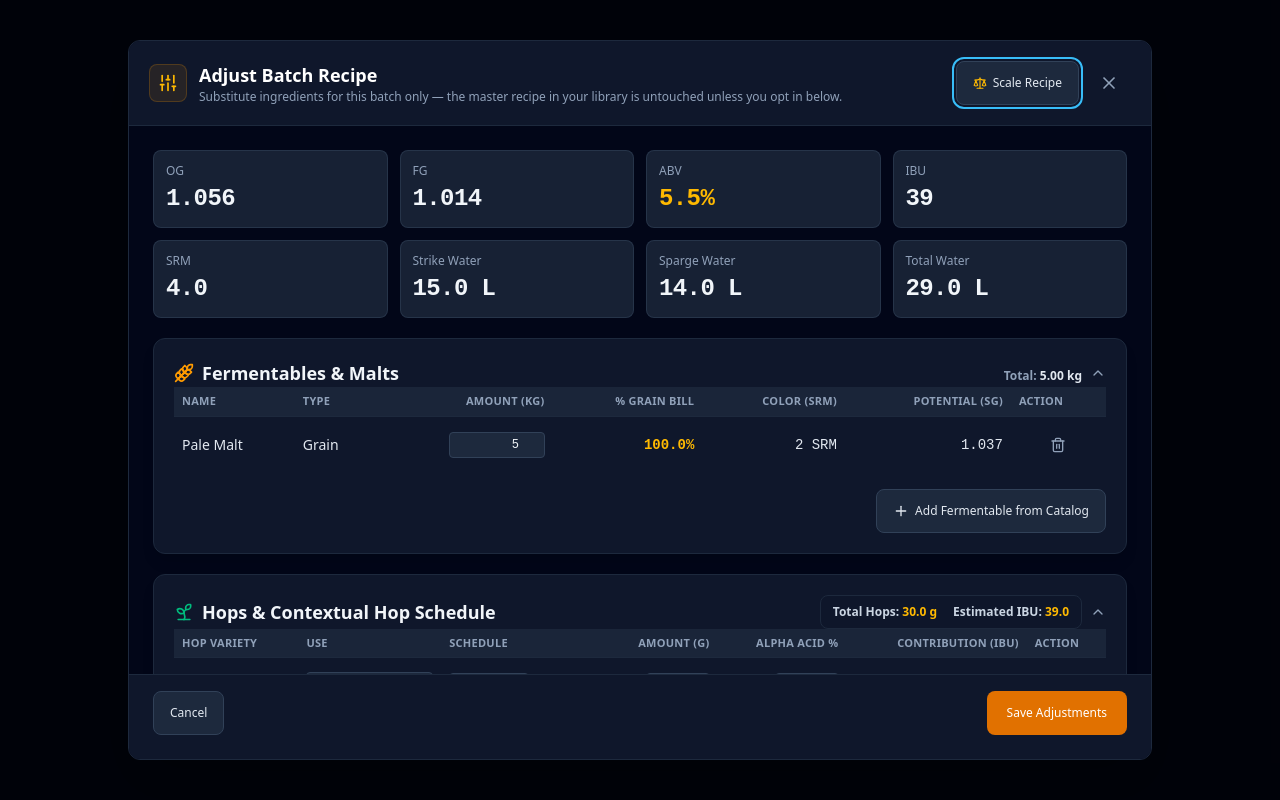
Test: Scale Recipe in BatchRecipeAdjustModal › scales fermentable and hop amounts proportionally when applying scale
Expected: the number field named "Pale Malt amount (kg)" holds "5", top-left (449, 432), bottom-right (545, 458)
Click the button with test id "batch-recipe-scale-btn" at (1017, 83), box top-left (956, 61), bottom-right (1079, 105)
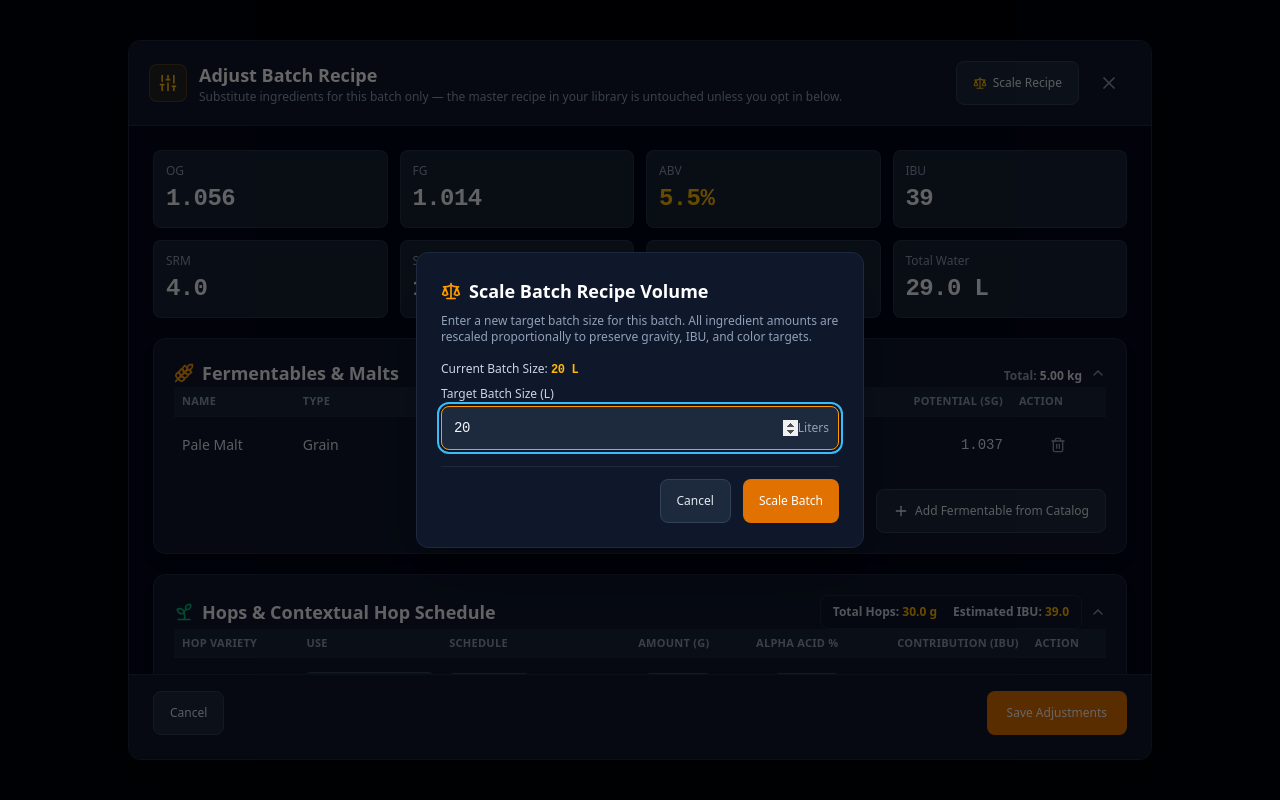
Note: Scale from 20L to 40L
Replace the text in the number field named "Target batch size in liters" with "40" at (640, 428), box top-left (441, 406), bottom-right (839, 450)
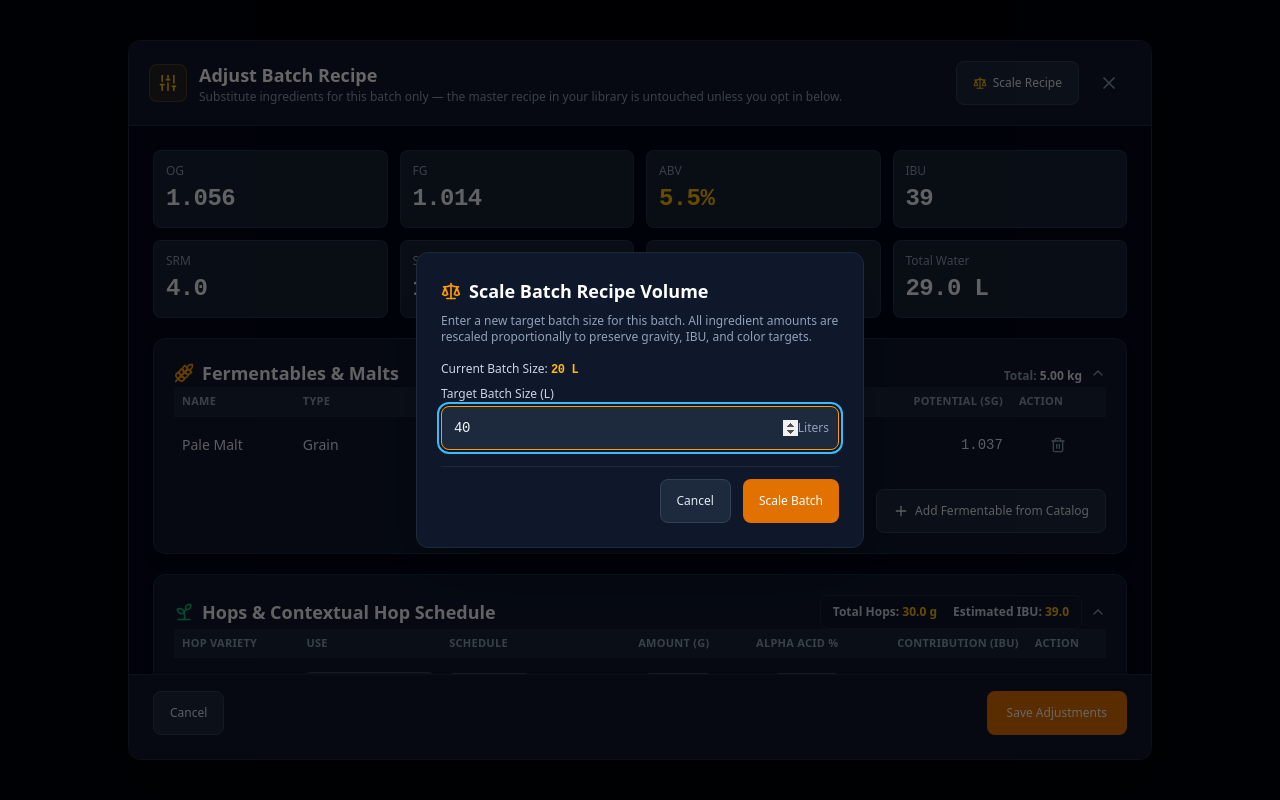
Click the button with test id "batch-scale-apply-btn" at (791, 501), box top-left (743, 479), bottom-right (839, 523)
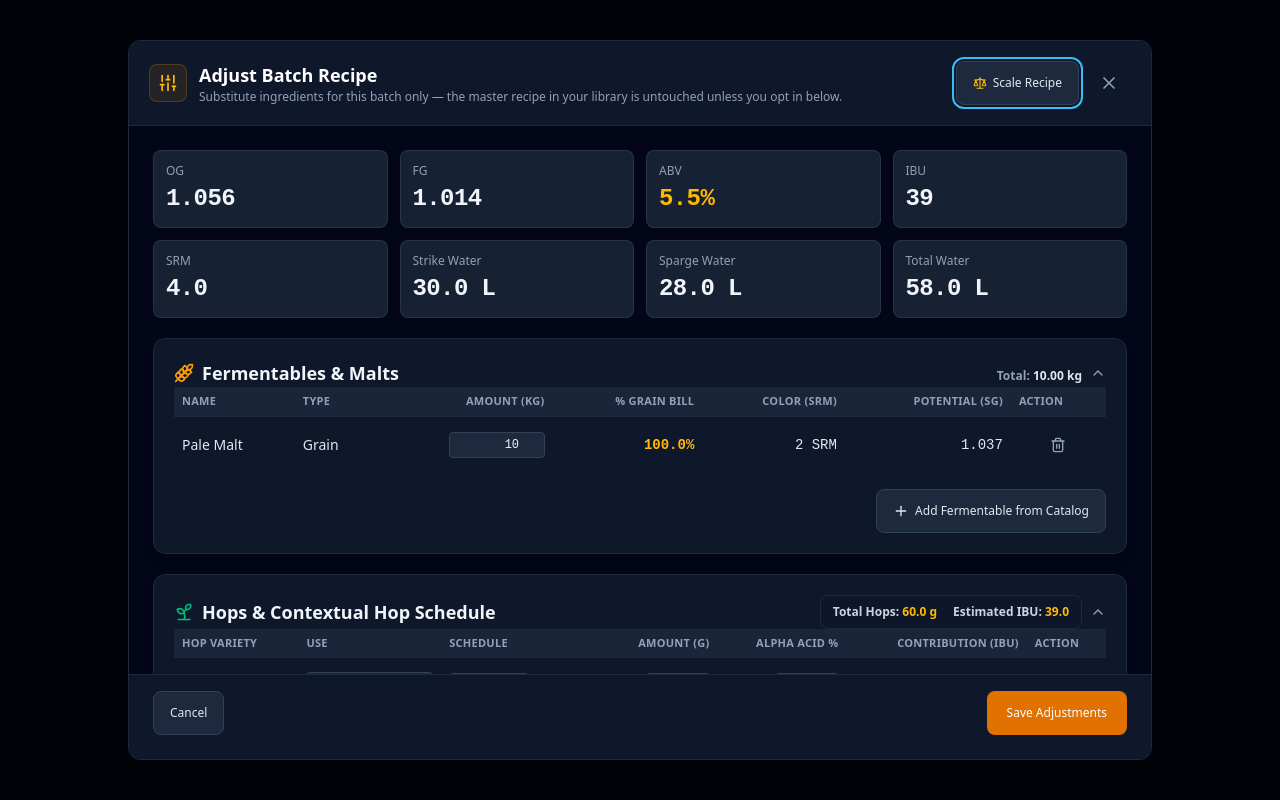
Now the heading "Scale Batch Recipe Volume" is gone
Now the number field named "Pale Malt amount (kg)" holds "10", box top-left (449, 432), bottom-right (545, 458)
